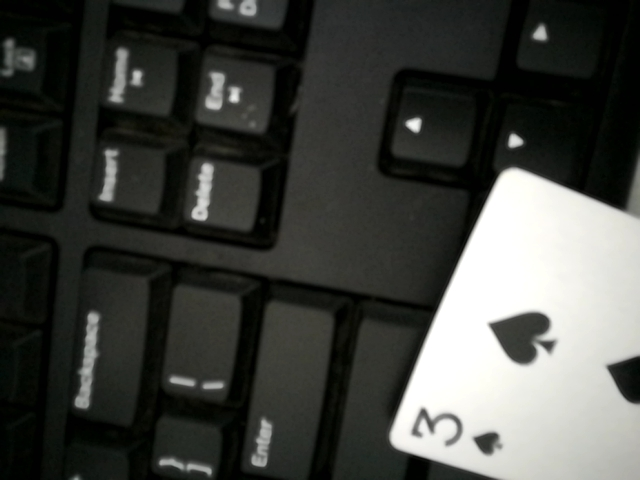ht 3: (372, 152, 640, 474)
